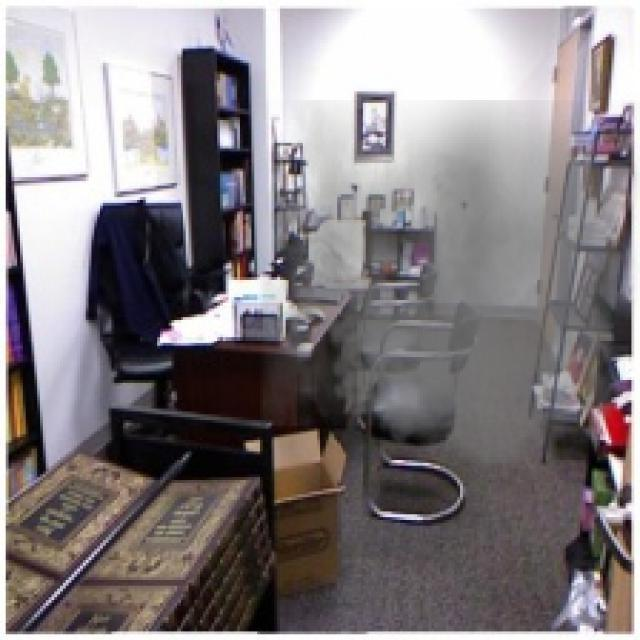Smoke: (260, 100, 637, 494)
